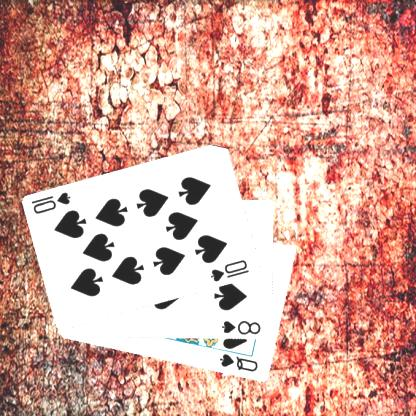10S: (209, 257, 253, 284), (31, 189, 75, 215)
8S: (220, 318, 264, 336)
QS: (218, 351, 262, 374)
